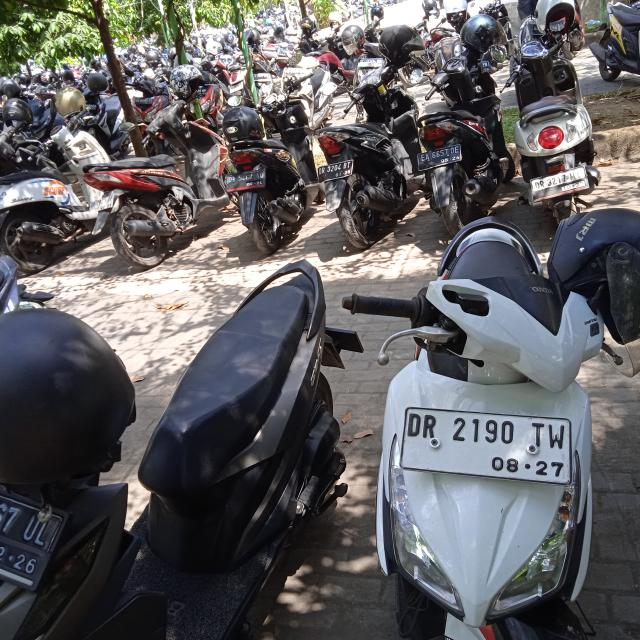plate: (400, 405, 576, 489), (530, 163, 590, 208), (416, 143, 463, 172), (316, 159, 354, 184)
